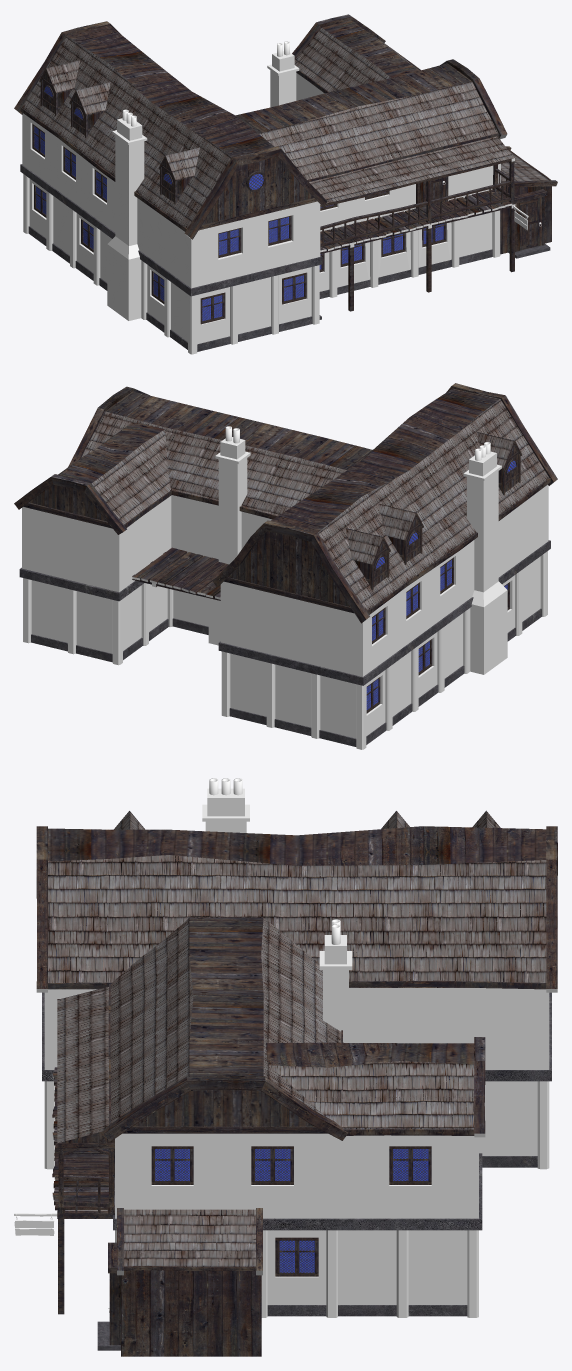
Rendered from ThePaintedWench_02Upload.glb.
The picture shows the model from 3 angles, top to bottom: view 1: azimuth 30°, elevation 25°; view 2: azimuth 150°, elevation 25°; view 3: azimuth 270°, elevation 25°; orthographic projection. The views are drawn at different scales.
Parts seen in each view (by area): view 1: Roof, Level1, Level2, RoofWood, Balcony, Chimney, RoofFrame, Level3, WindowFrames, Foundation, Level2Frame, Level3Frames (+5 smaller); view 2: Level2, Roof, Level1, RoofWood, Chimney, RoofFrame, Level3, Level2Frame, Foundation, BackBalcony, Level3Frames, WindowFrames; view 3: Roof, Level2, RoofWood, Level1, RoofFrame, Entrance, Balcony, Level3, Level2Frame, Chimney, WindowFrames, Foundation (+8 smaller).
Part boxes in pixels (box(x1,y1,x2,y2)): Roof: box(22, 28, 548, 228); Level1: box(23, 174, 500, 354); Level2: box(22, 73, 500, 288); RoofWood: box(67, 20, 513, 205); Balcony: box(320, 157, 515, 311); Chimney: box(107, 51, 299, 320); RoofFrame: box(14, 14, 557, 239); Level3: box(42, 73, 313, 224); WindowFrames: box(32, 85, 446, 324); Foundation: box(28, 226, 492, 351); Level2Frame: box(20, 164, 501, 296); Level3Frames: box(40, 78, 317, 230); Level2: box(22, 484, 548, 676); Roof: box(58, 399, 548, 610); Level1: box(23, 551, 547, 749); RoofWood: box(60, 388, 499, 548); Chimney: box(208, 437, 507, 674); RoofFrame: box(14, 383, 557, 623); Level3: box(29, 446, 518, 606); Level2Frame: box(19, 540, 550, 685); Foundation: box(31, 608, 541, 746); BackBalcony: box(132, 547, 228, 600); Level3Frames: box(23, 452, 520, 613); WindowFrames: box(366, 459, 517, 713); Roof: box(48, 811, 546, 1266); Level2: box(44, 988, 549, 1218); RoofWood: box(48, 826, 546, 1239); Level1: box(44, 1081, 549, 1317); RoofFrame: box(36, 810, 557, 1271); Entrance: box(121, 1270, 261, 1356); Balcony: box(52, 989, 114, 1314); Level3: box(133, 1090, 314, 1126); Level2Frame: box(42, 992, 551, 1230); Chimney: box(202, 788, 352, 1042); WindowFrames: box(151, 1146, 431, 1276); Foundation: box(267, 1156, 537, 1316).
Bounding box in the file's own units: 17.8 × 8.32 × 13.91.
Materials: 10 (5 with a texture image).
